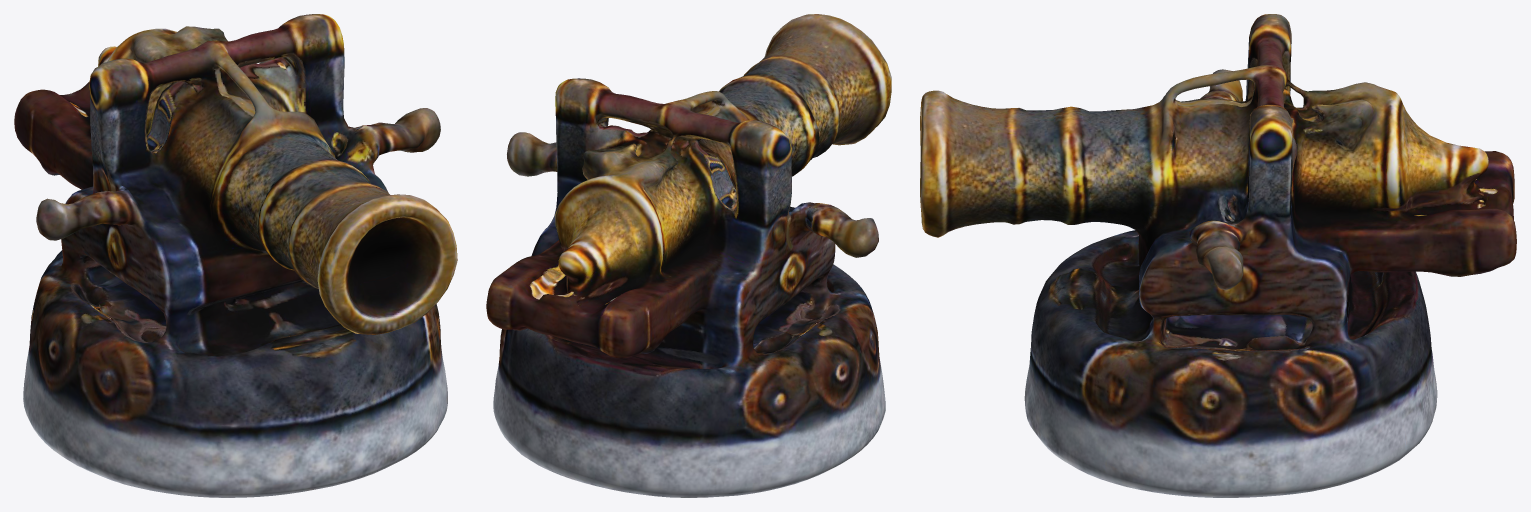
File: royal-cannon.glb
3 renders of one model, left to right at view 1: azimuth 30°, elevation 25°; view 2: azimuth 150°, elevation 25°; view 3: azimuth 270°, elevation 25°, orthographic. The views are drawn at different scales.
Visible parts, largest first — view 1: mesh; view 2: mesh; view 3: mesh.
Boxes of the visible parts, box(x1,y1,x2,y2) form: mesh: box(14, 14, 457, 497); mesh: box(486, 14, 891, 497); mesh: box(920, 14, 1516, 497).
Bounding box in the file's own units: 0.7574 × 0.6517 × 0.9995.
1 material, 1 textured.
